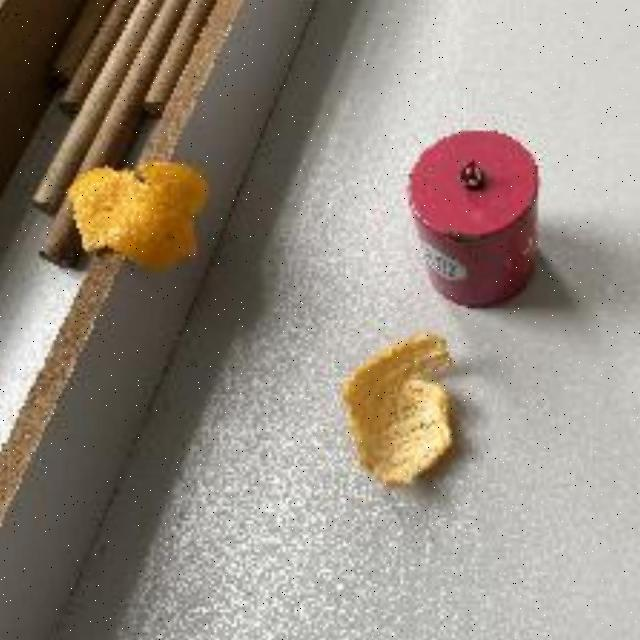orange-peel: (340, 330, 458, 488), (64, 156, 210, 272)
